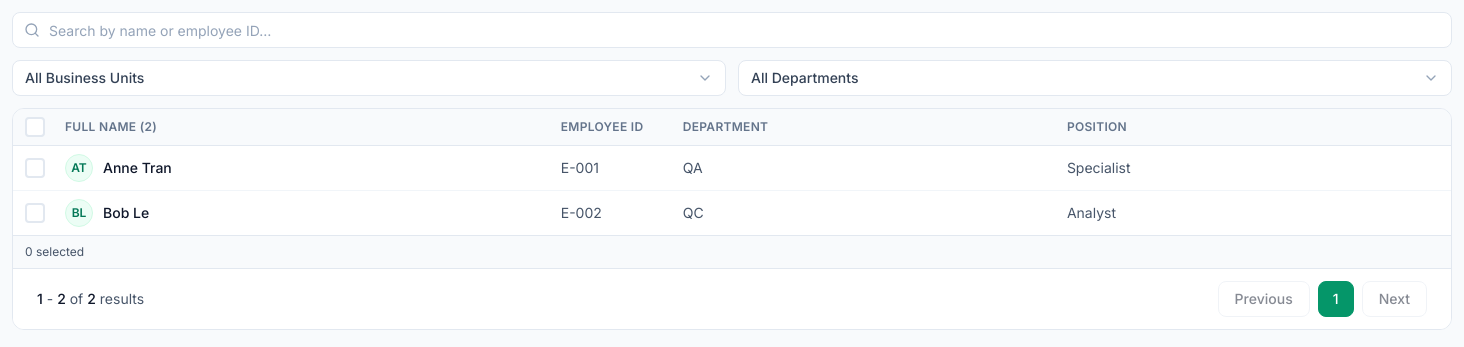
Scenario: ProposedParticipantsPicker › lists people on one screen, selects all shown at once and reports the ids
This screenshot has width=1464, height=347.
Expected: the text "Anne Tran" is shown, [103,158,172,178]
Click the checkbox named "Select all shown": (35, 127) [25,117,45,137]
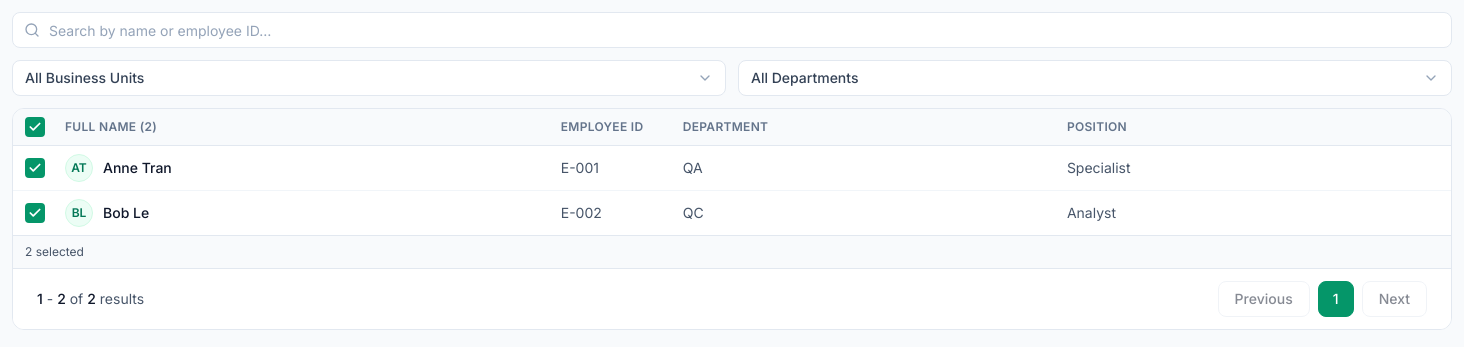
Expected: the text "2 selected" is shown, [13,235,1451,268]
